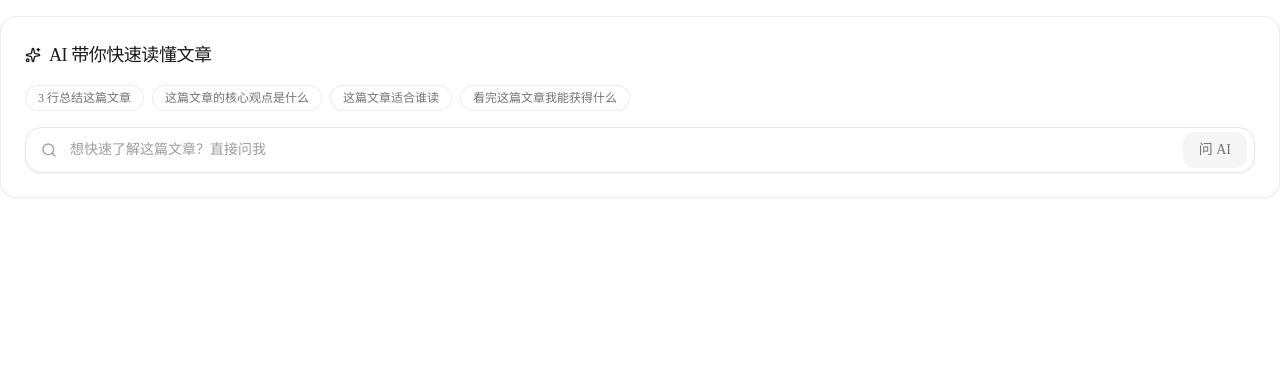
Test: PageAIAssistantProvider › 流式回答里的 Markdown 标题会渲染为带统一样式的 heading
In the field with placeholder "想快速了解这篇文章？直接问我": (640, 150) [25,127,1255,173], type "给我一个分段说明"
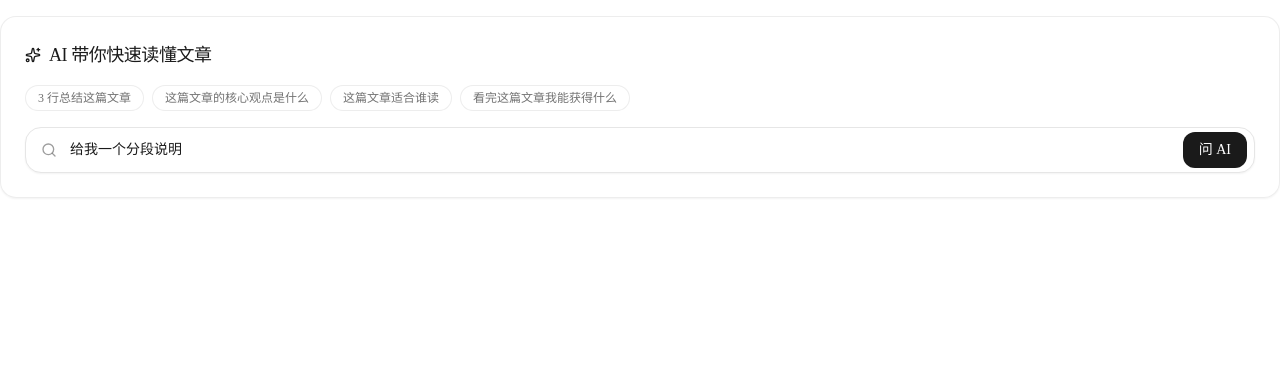
Click the button "问 AI": (1215, 150) [1183,132,1247,168]
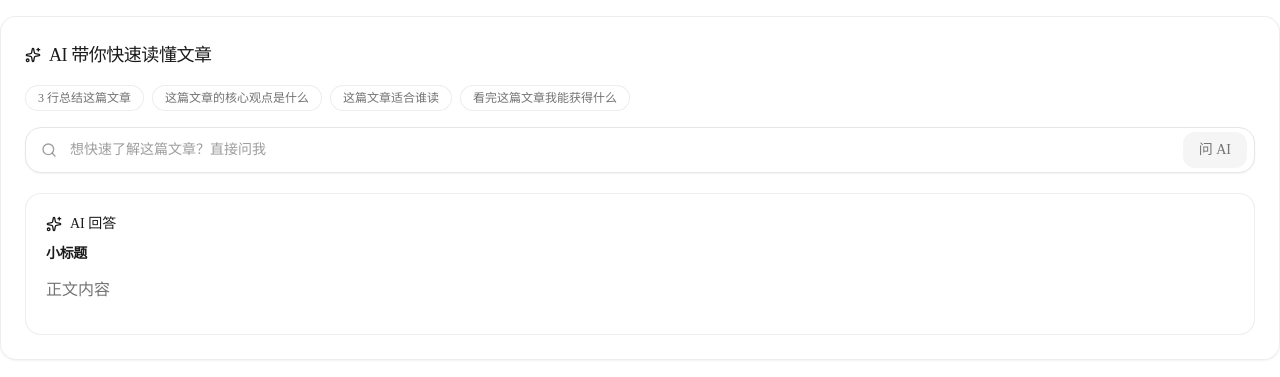
expect the text "正文内容" is shown: met, box [46,281,110,298]
